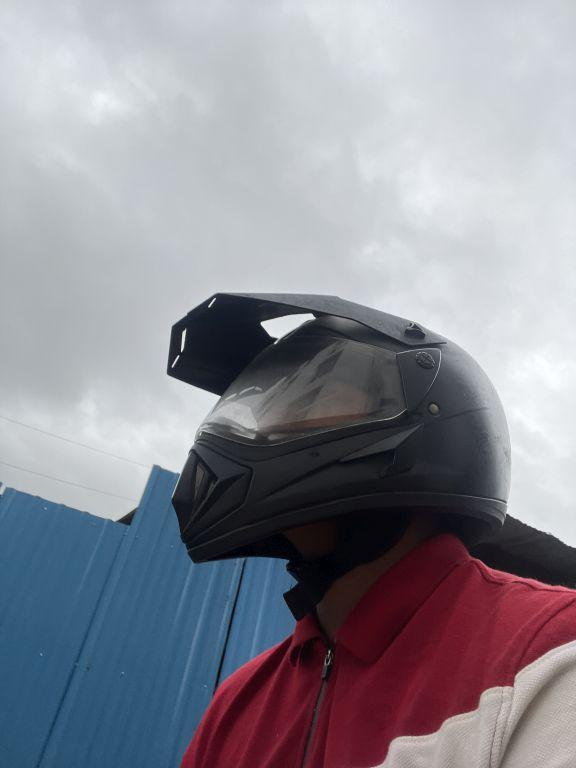helmet: (144, 275, 526, 569)
